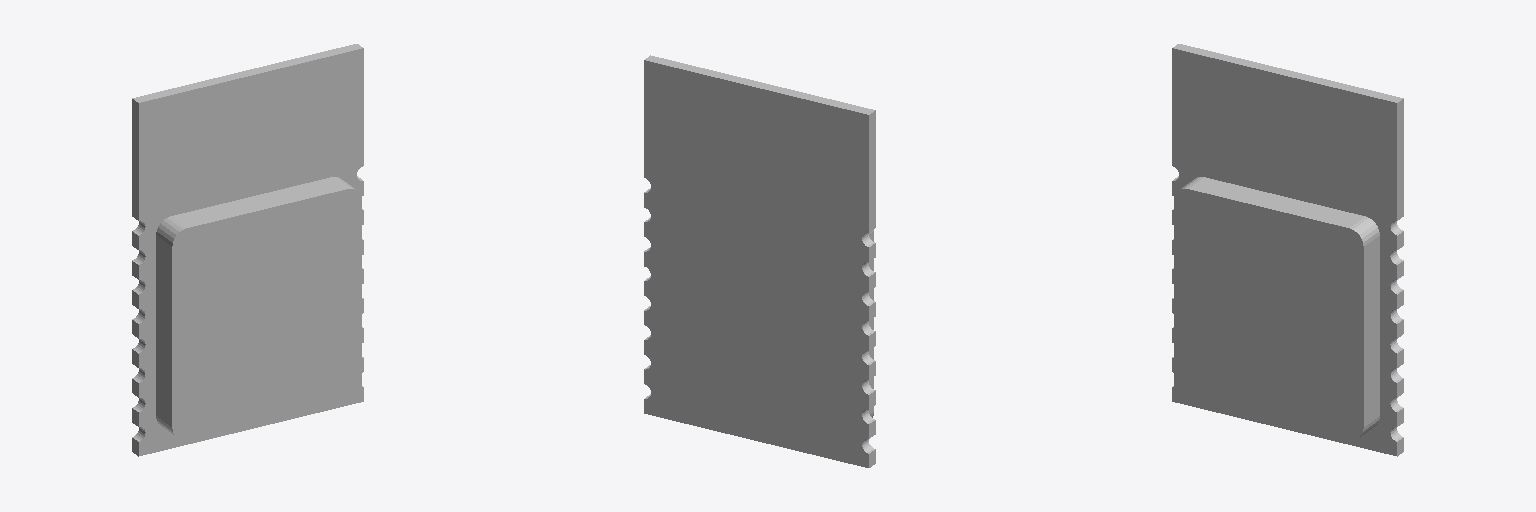
Rendered from wbr3 v2 v4.obj.
3 views of the same model, side by side, from view 1: azimuth 30°, elevation 25°; view 2: azimuth 150°, elevation 25°; view 3: azimuth 330°, elevation 25° (orthographic).
Parts seen in each view (by area): view 1: Body1; view 2: Body1; view 3: Body1.
Boxes of the visible parts, x1=… form: Body1: x1=132, y1=44, x2=363, y2=456; Body1: x1=644, y1=55, x2=875, y2=467; Body1: x1=1172, y1=44, x2=1403, y2=456.
Bounding box in the file's own units: 1.6 × 2.4 × 0.28.